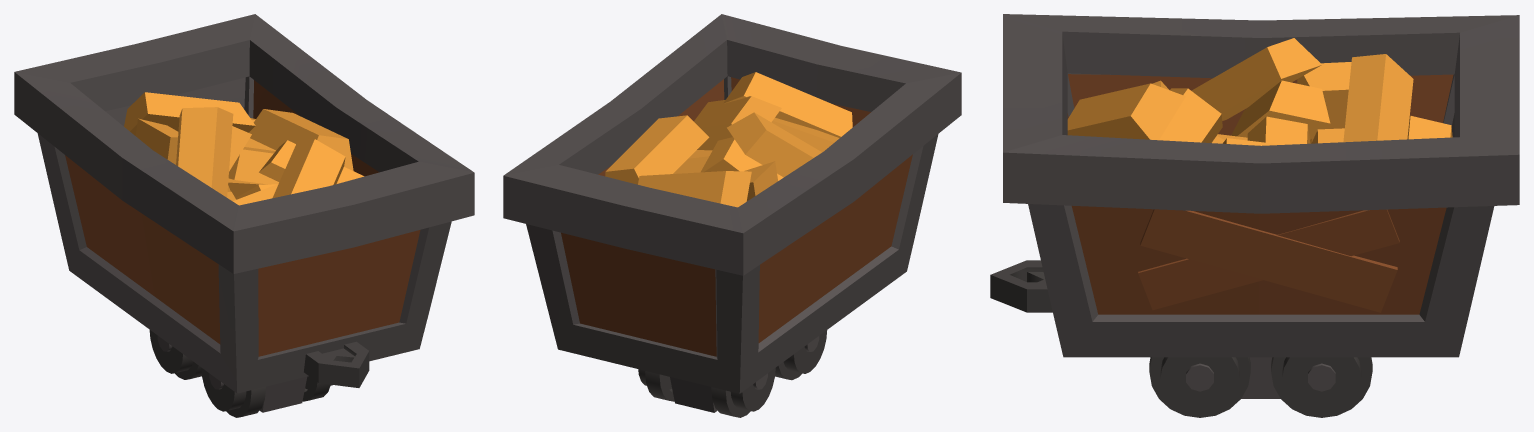
File: MineCard.fbx
3 views of the same model, side by side, from view 1: azimuth 30°, elevation 25°; view 2: azimuth 150°, elevation 25°; view 3: azimuth 270°, elevation 25° (orthographic). The views are drawn at different scales.
Parts seen in each view (by area): view 1: Cart, Gold_Bars, RightWheel_Front, RightWheel_Back, LeftWheel_Front; view 2: Cart, Gold_Bars, RightWheel_Back, RightWheel_Front, LeftWheel_Back; view 3: Cart, Gold_Bars, LeftWheel_Back, LeftWheel_Front.
Part boxes in pixels (x1,y1,x2,y2): Cart: [14, 14, 474, 412]; Gold_Bars: [124, 92, 364, 205]; RightWheel_Front: [201, 367, 265, 417]; RightWheel_Back: [149, 330, 201, 379]; LeftWheel_Front: [302, 376, 332, 401]; Cart: [503, 14, 961, 412]; Gold_Bars: [605, 72, 852, 207]; RightWheel_Back: [711, 368, 775, 417]; RightWheel_Front: [775, 330, 827, 380]; LeftWheel_Back: [638, 369, 674, 401]; Cart: [990, 14, 1519, 398]; Gold_Bars: [1067, 38, 1452, 145]; LeftWheel_Back: [1271, 357, 1372, 417]; LeftWheel_Front: [1149, 357, 1250, 417].
Size of the model in its own units: 51.68 by 57.13 by 82.12.
Materials: 1 (1 with a texture image).
